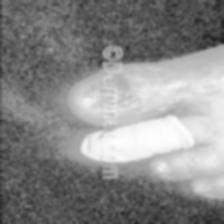Toxin: (79, 78, 131, 120)
